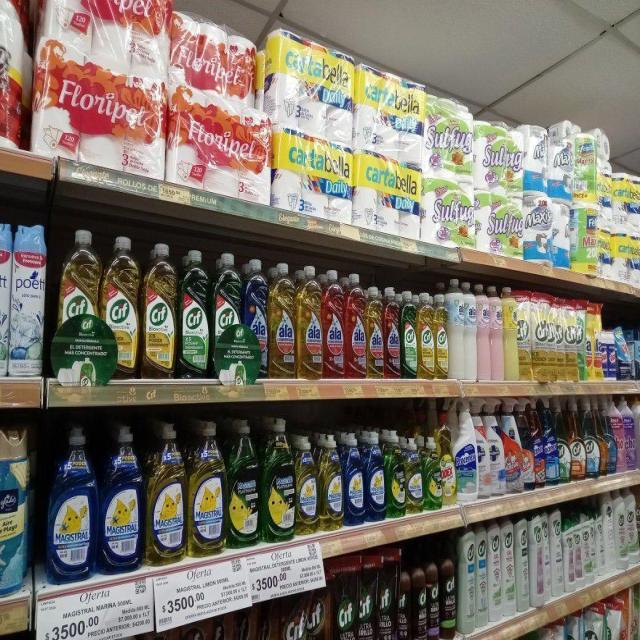ala_conc_amarillo: (296, 262, 322, 380), (269, 260, 295, 378), (366, 284, 384, 379)
ala_conc_azul: (244, 257, 268, 380)
ala_conc_rojo: (323, 268, 344, 379), (345, 272, 366, 379), (384, 286, 400, 379), (180, 616, 210, 640)
ala_crem_blanco: (448, 279, 464, 380), (465, 281, 477, 380)
ala_crem_rosado: (477, 283, 490, 381), (491, 284, 504, 382)
ala_sachet_amarillo: (585, 301, 594, 381)
cif_conc_bot_amarilla: (56, 227, 100, 385), (102, 235, 140, 380), (142, 242, 177, 378), (417, 291, 434, 379), (434, 289, 448, 379)
cif_conc_botella_verde: (212, 251, 244, 381), (179, 248, 210, 379), (401, 289, 416, 379)
cif_conc_sachet_amarillo: (504, 286, 518, 381), (518, 289, 532, 381), (532, 291, 546, 382)
cif_conc_sachet_verde: (606, 595, 624, 640), (584, 604, 604, 640)
magistral_con_amarillo: (146, 421, 186, 564), (188, 419, 226, 556), (319, 433, 343, 530), (296, 434, 318, 534), (424, 436, 442, 511), (406, 437, 423, 514)
magistral_con_azul: (47, 425, 96, 583), (100, 424, 143, 574), (365, 431, 386, 522), (344, 432, 364, 526)
